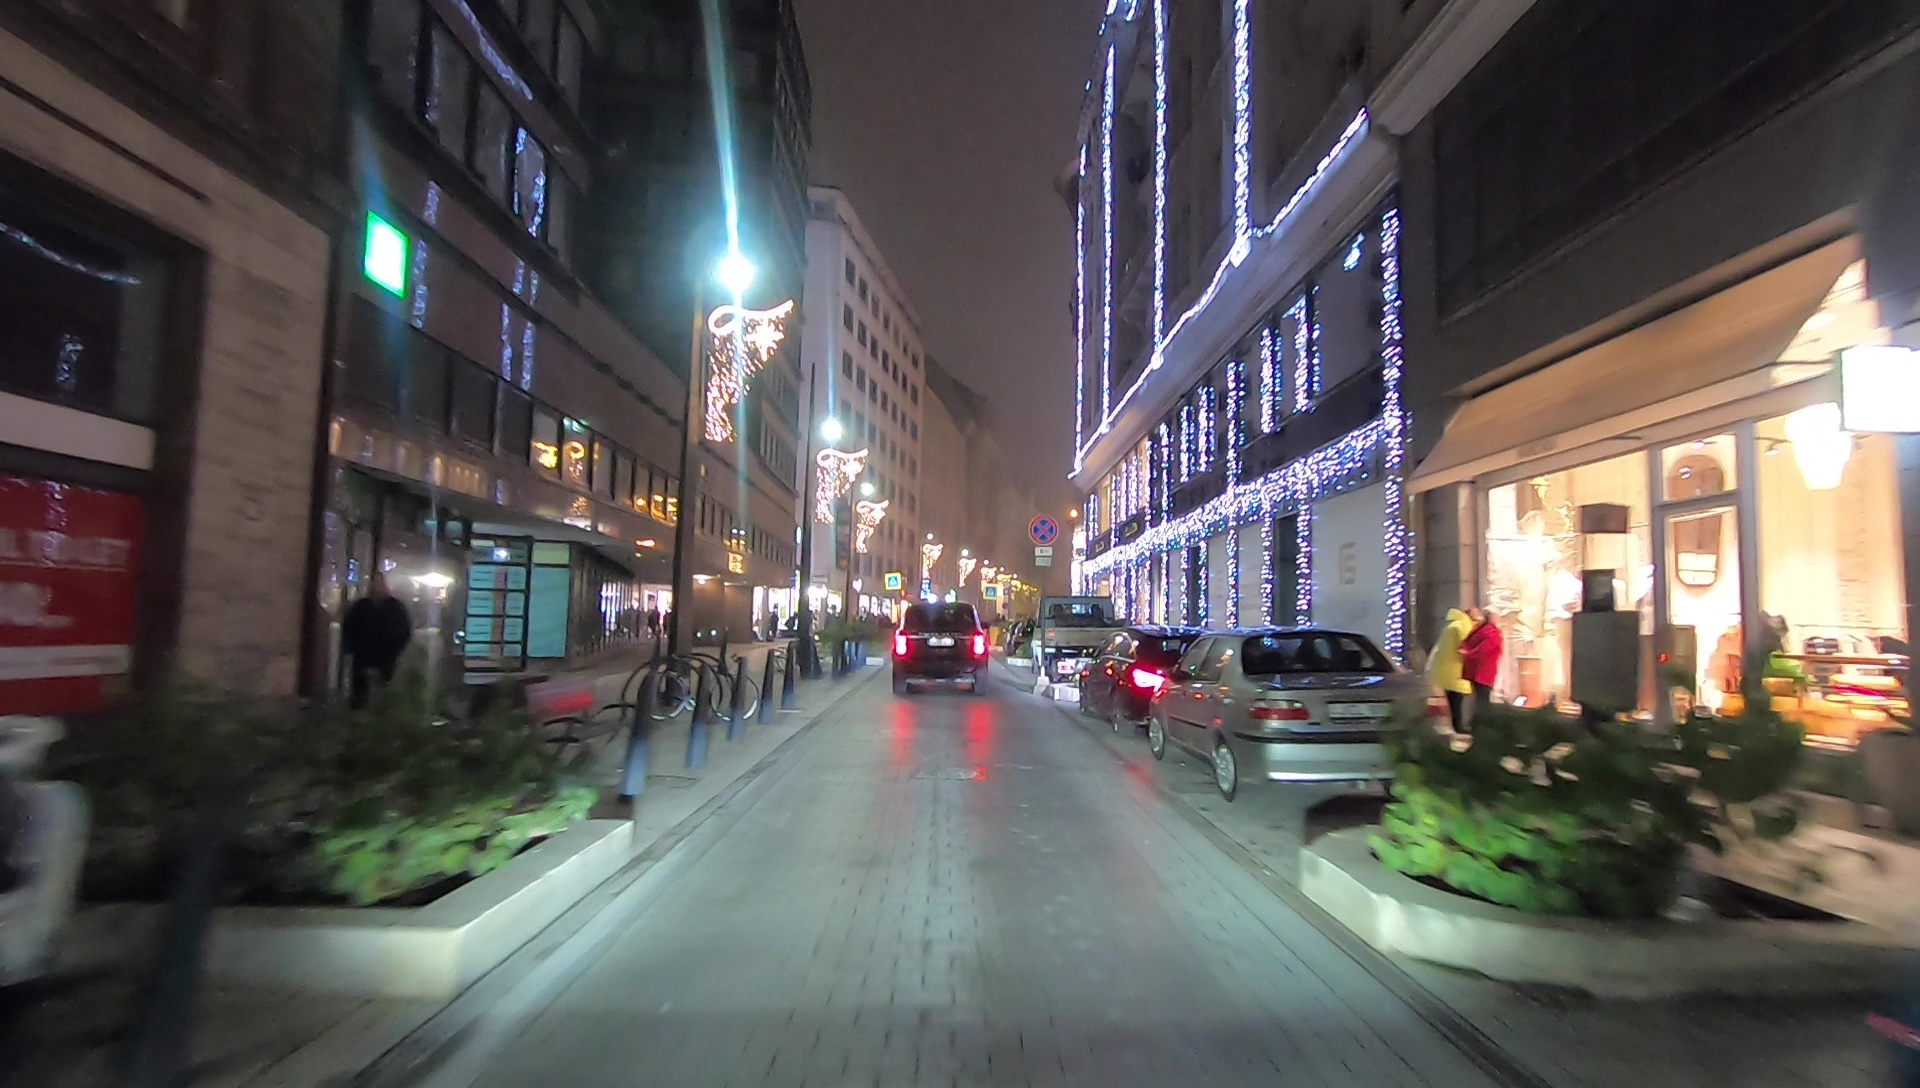person: (343, 569, 412, 763), (1430, 602, 1478, 749), (1467, 608, 1502, 737)
